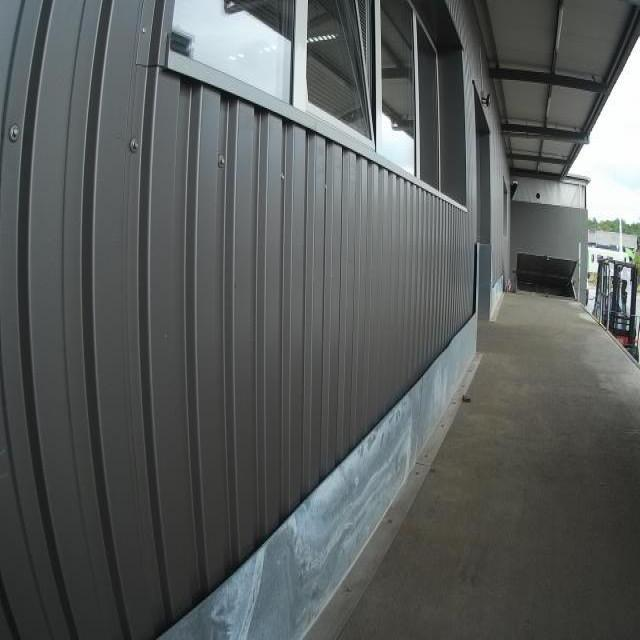forklift: (591, 254, 639, 355)
